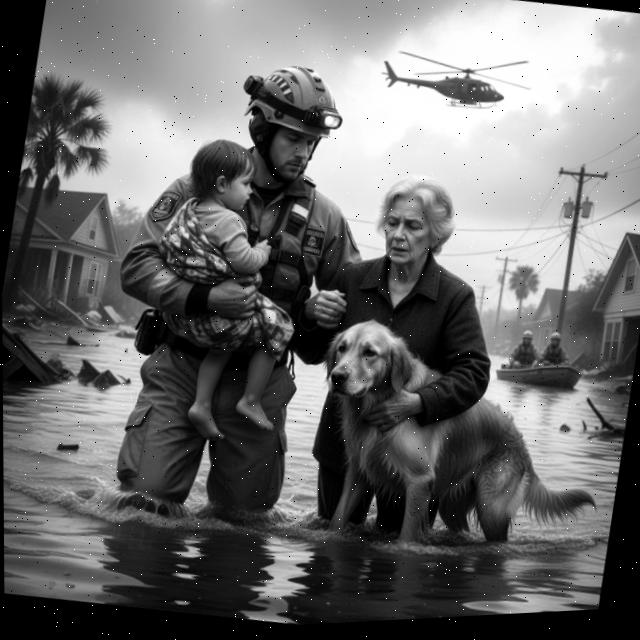civilian: (269, 154, 521, 565), (133, 119, 325, 462)
dog: (286, 300, 629, 595)
rescuer: (79, 32, 389, 561), (505, 323, 544, 378), (537, 327, 575, 376)
